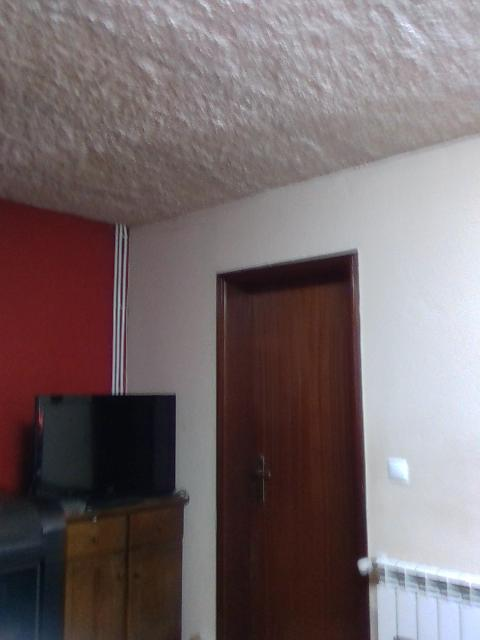closed_door: (213, 248, 373, 638)
